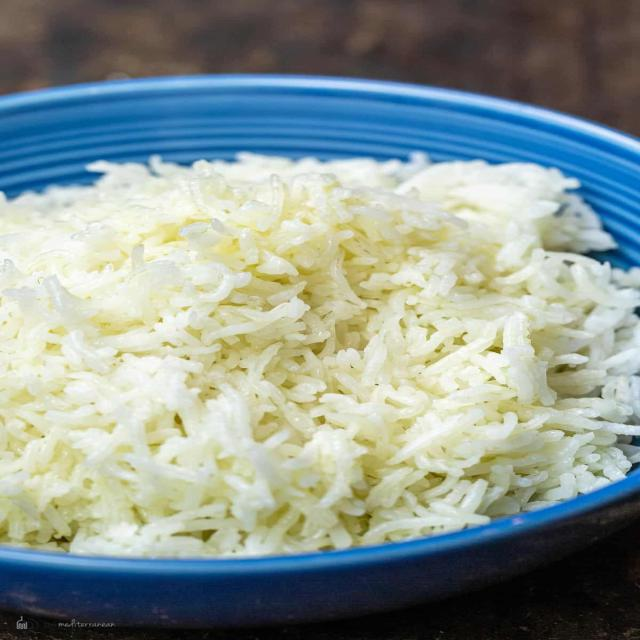rice: (8, 155, 628, 534)
